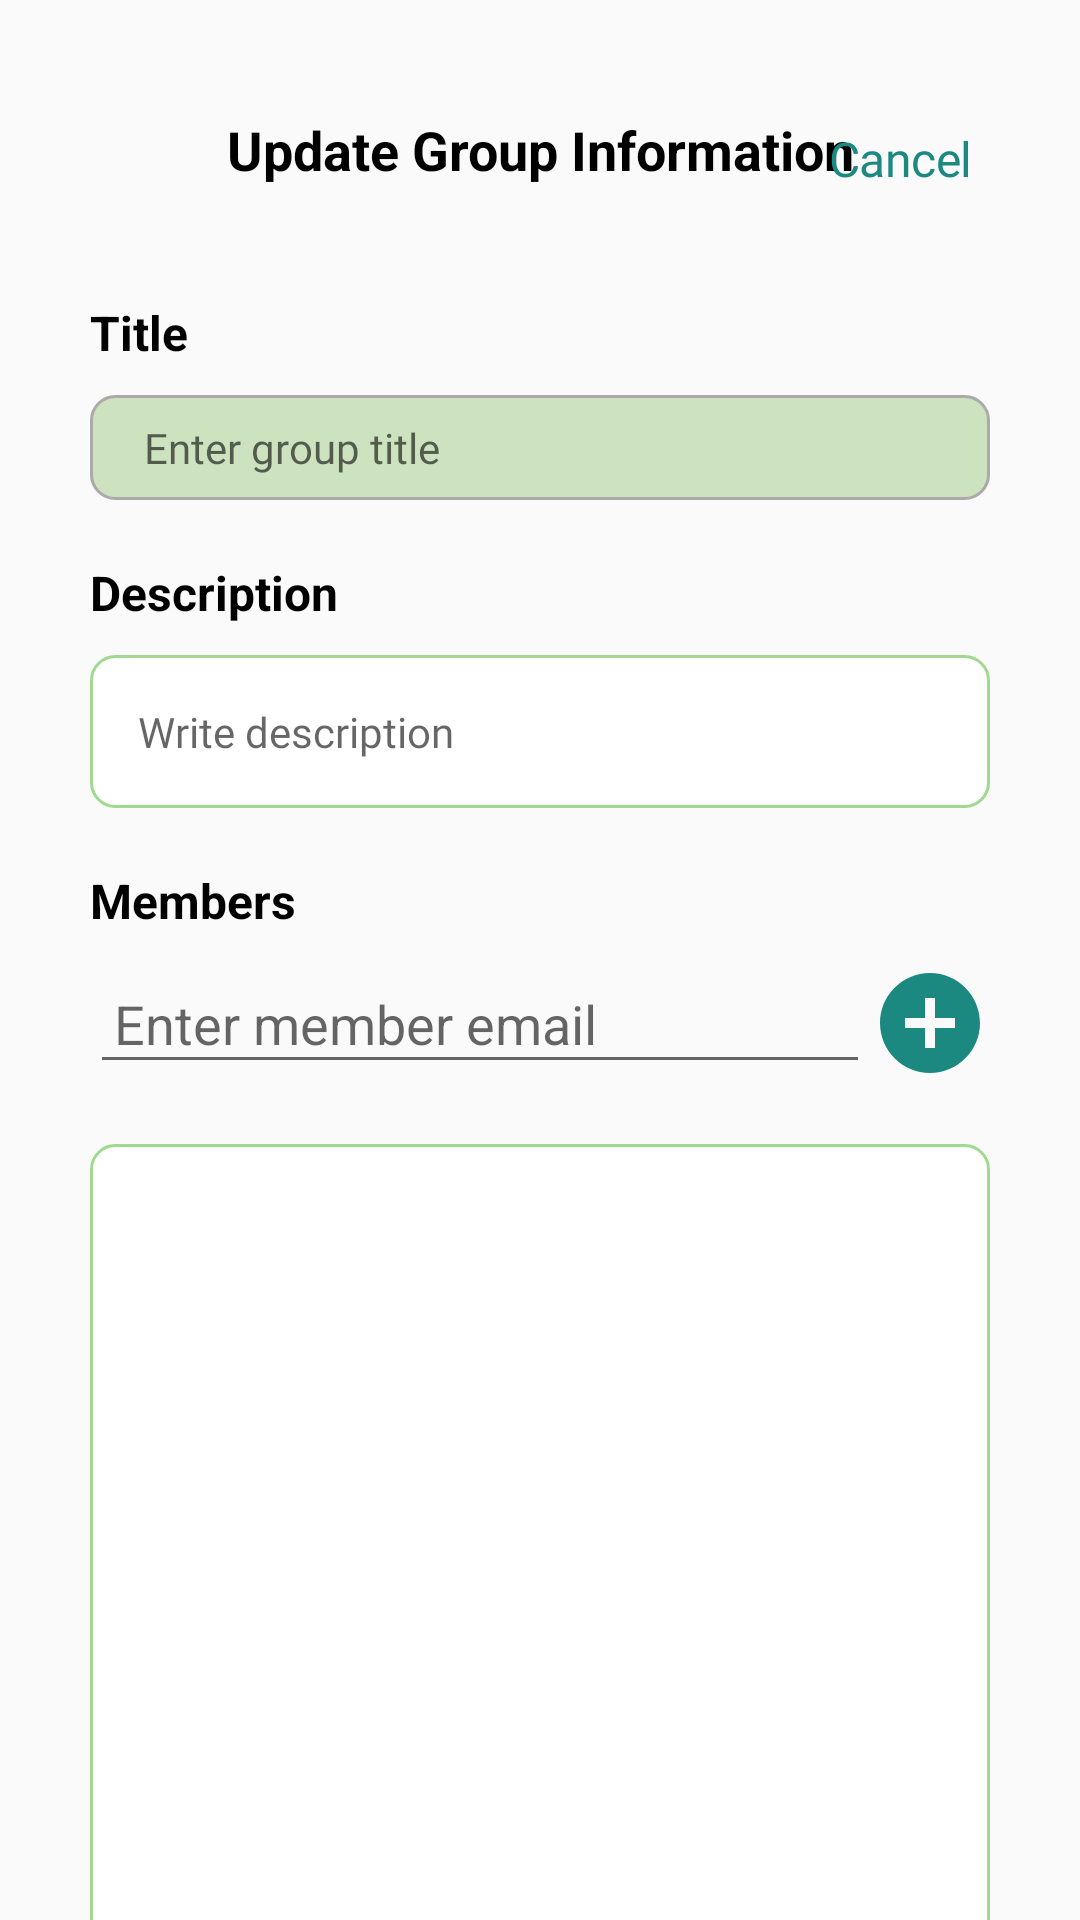

Point at icon controls on the screen. Image size 1080×1920, points as (x=x, y=y).
Add Member: (x=930, y=1023)
